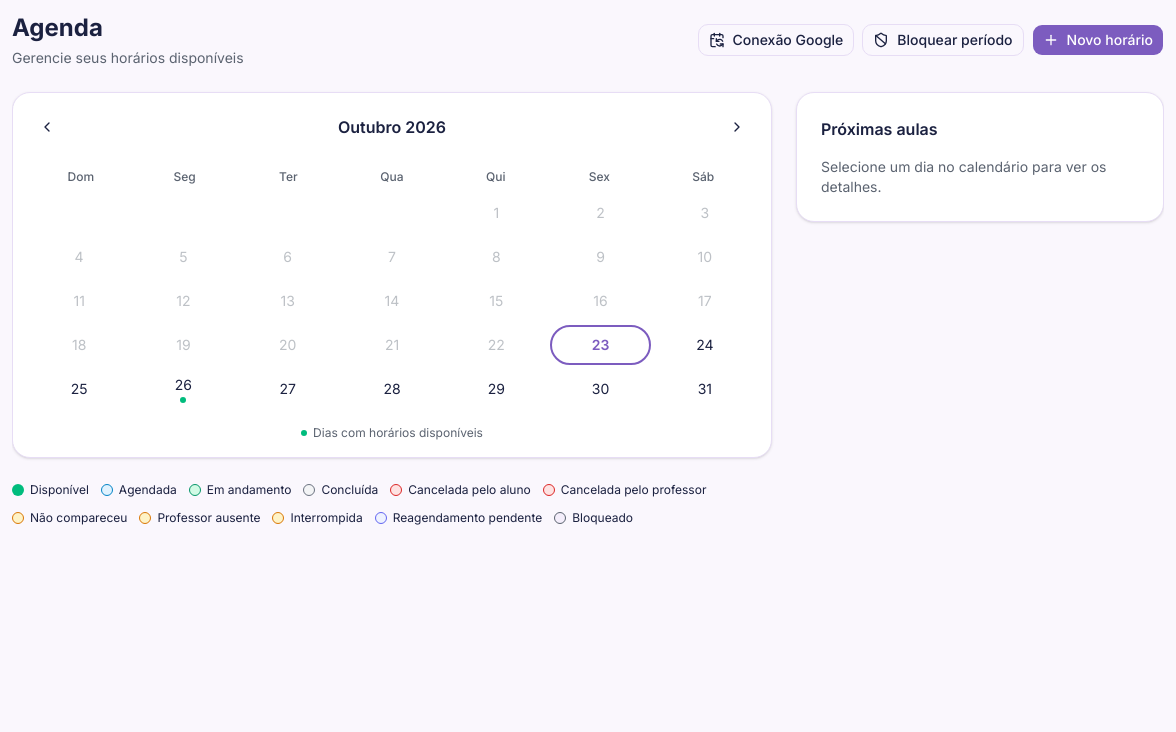
Test: AdminScheduleClient - fiacao da agenda do professor › clicar num slot produz efeito observavel na tela
Click the cell "26": (183,389) [133,369,234,409]
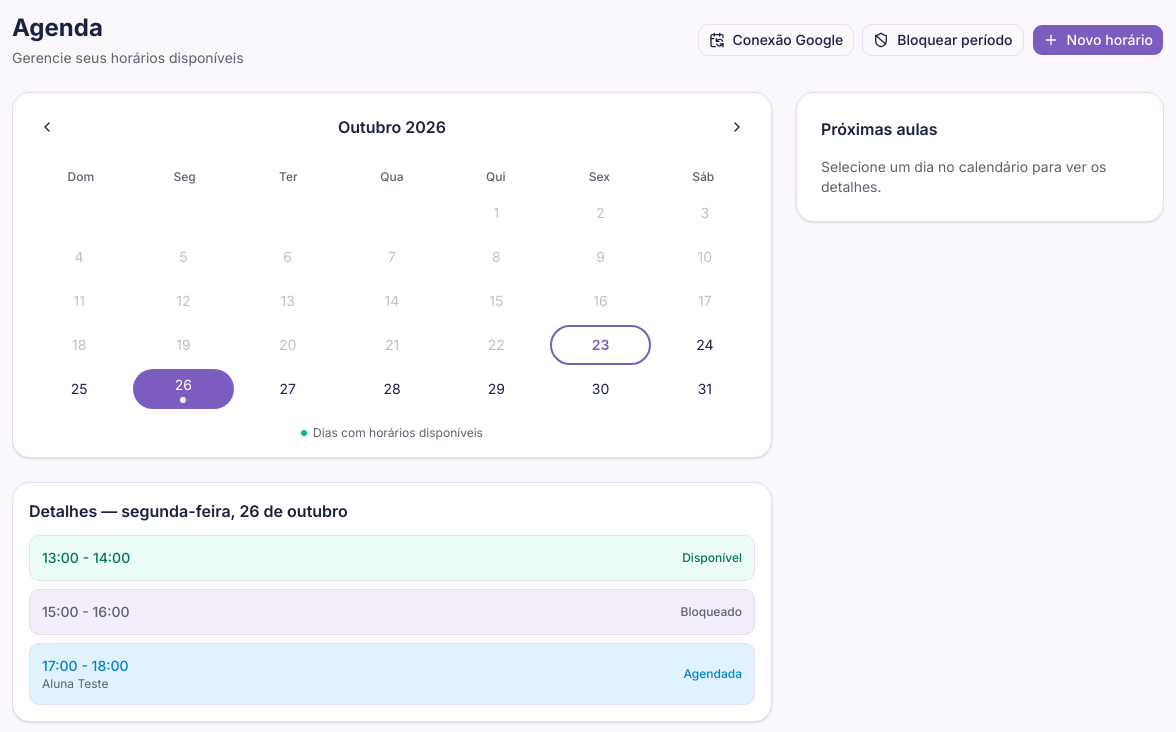
Click the button "17:00 - 18:00 Aluna Teste Agendada": (60,666) [29,643,755,705]
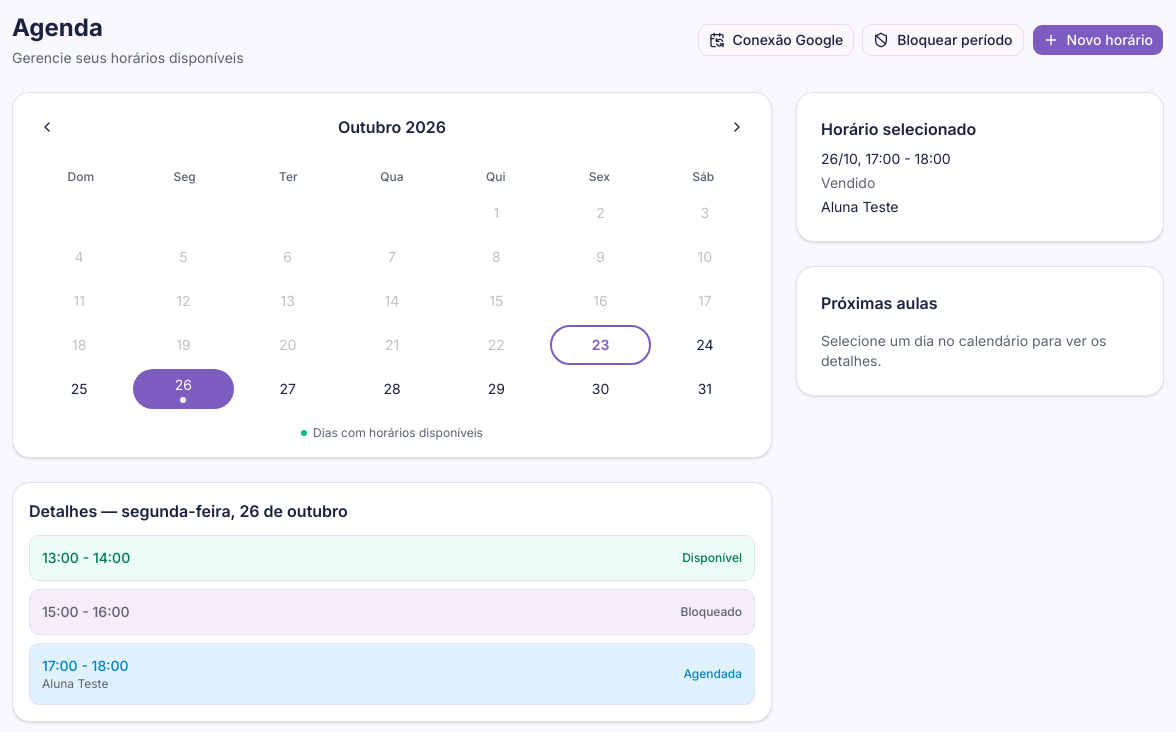
Expected: the heading "Próximas aulas" is shown, [821,293,938,313]
Now the element with test id "admin-schedule-slot-detail" shows "Aluna Teste", box [821,198,898,215]
